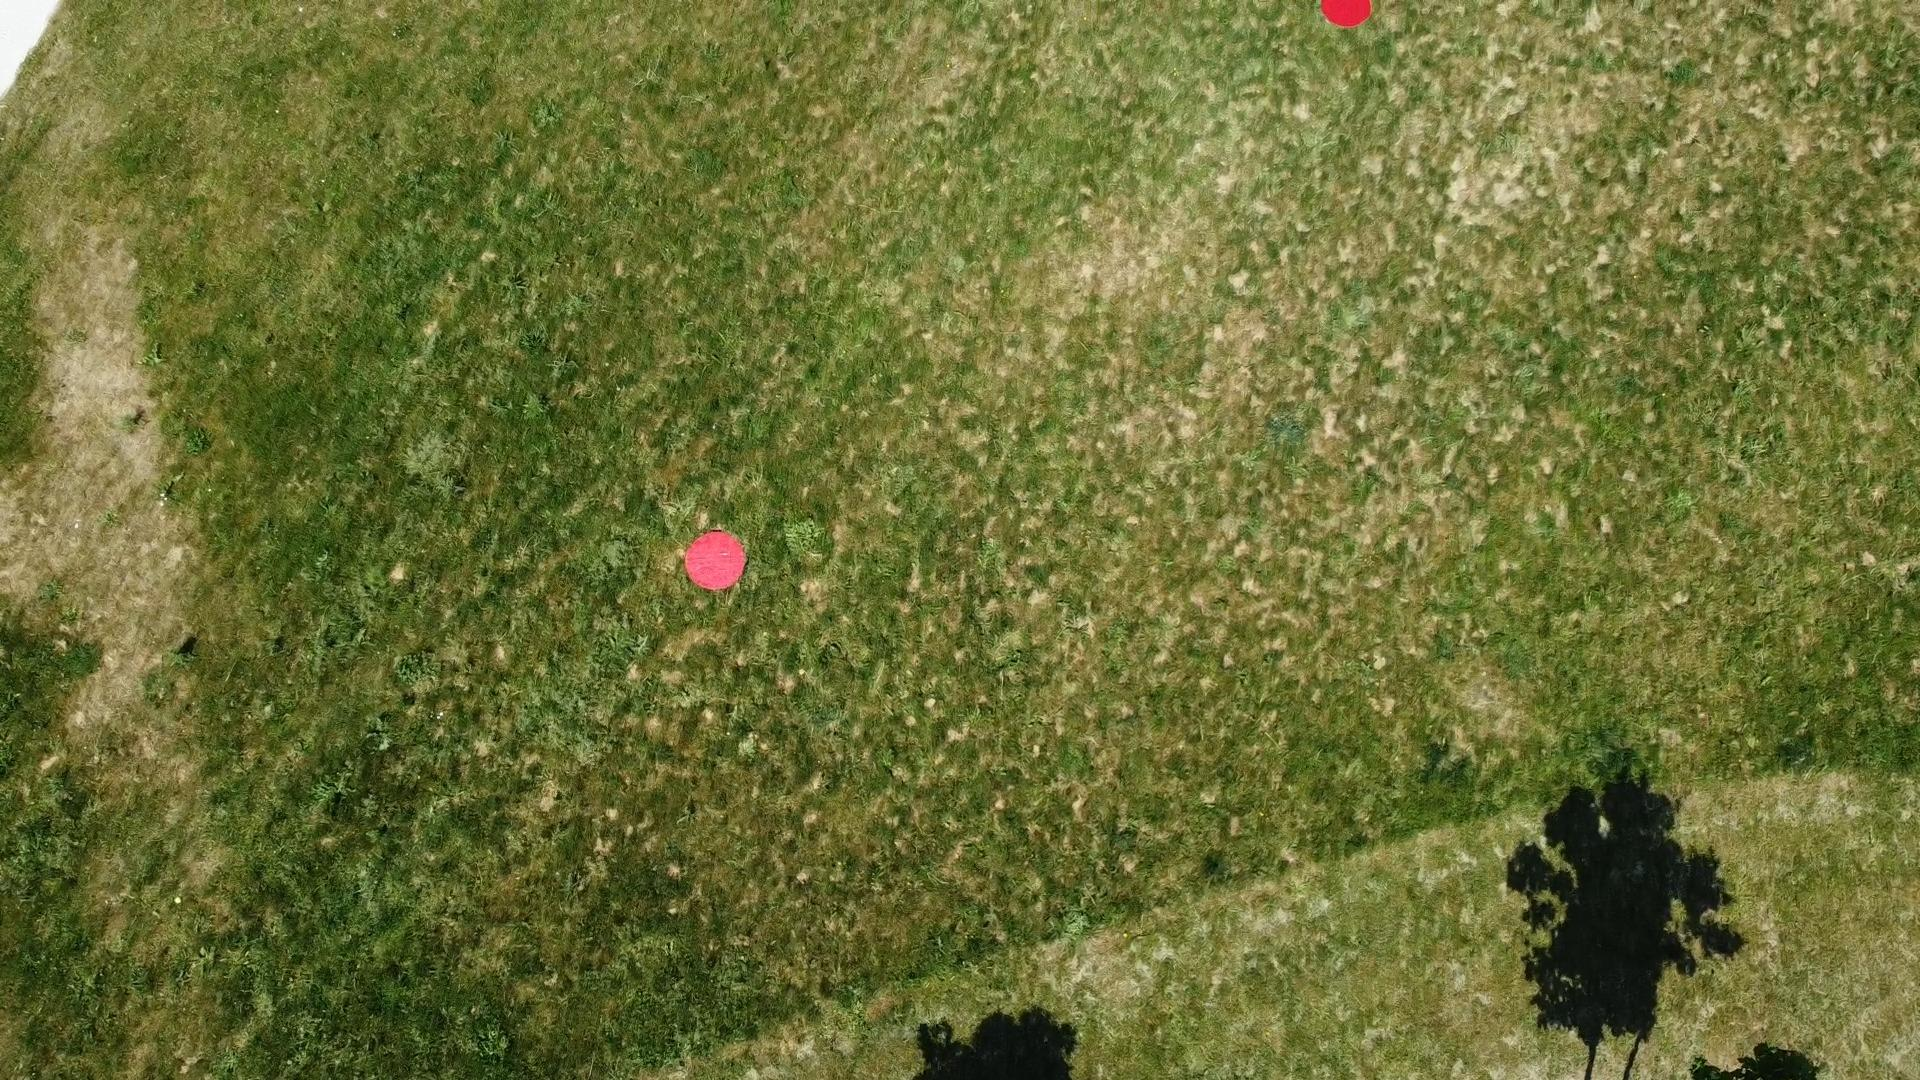Red: (683, 526, 750, 592), (1315, 0, 1378, 29)
